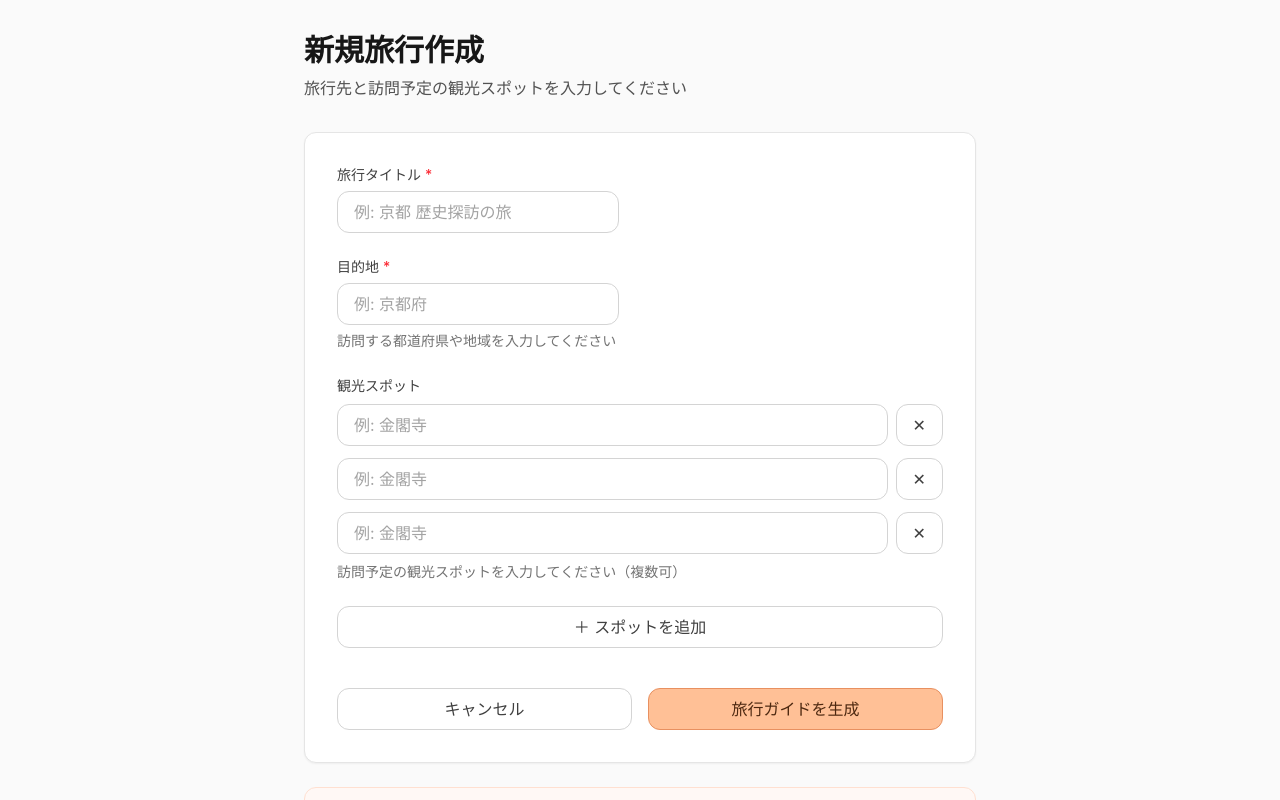
Test: TravelNewPage › エラーダイアログ操作 › エラーダイアログを閉じることができる
The width and height of the screenshot is (1280, 800).
Type "テスト旅行" into the field with placeholder "例: 京都 歴史探訪の旅" at (478, 212), box [337,191,619,233]
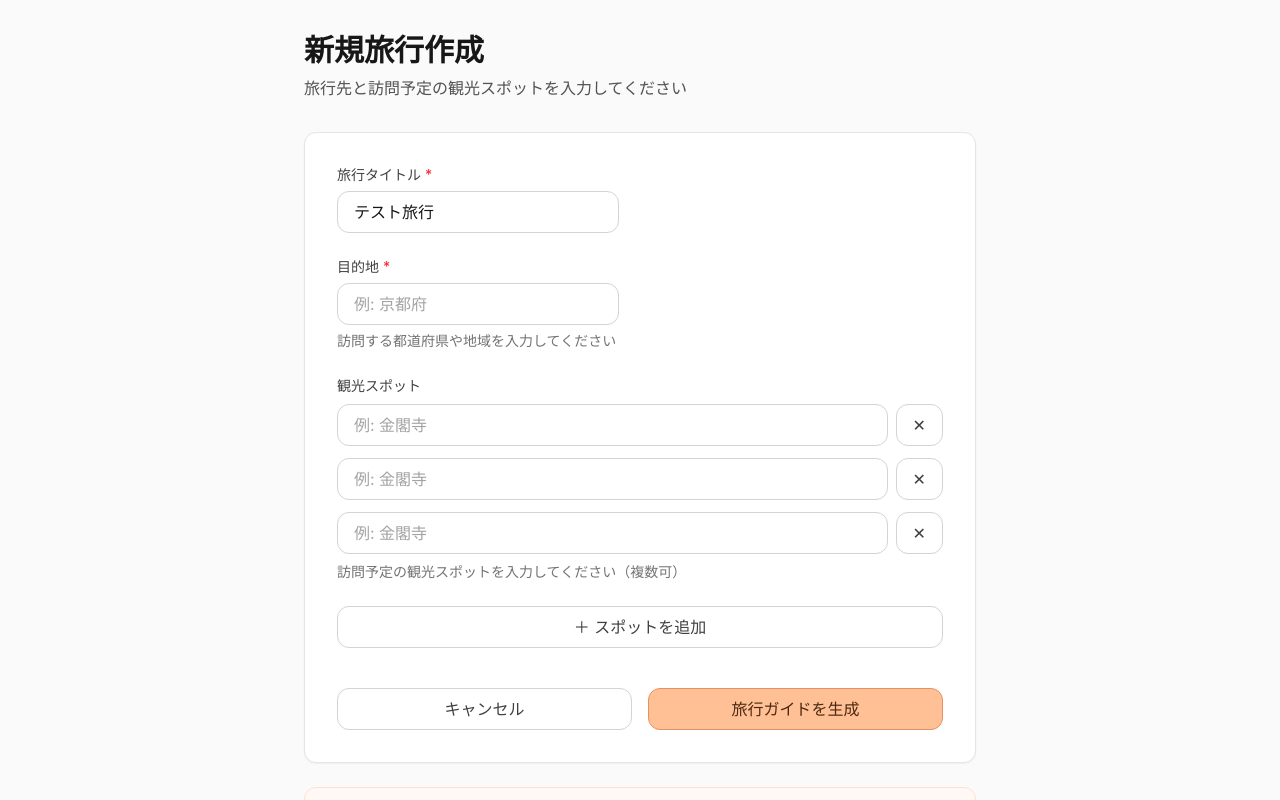
Type "テスト目的地" into the field with placeholder "例: 京都府" at (478, 304), box [337,283,619,325]
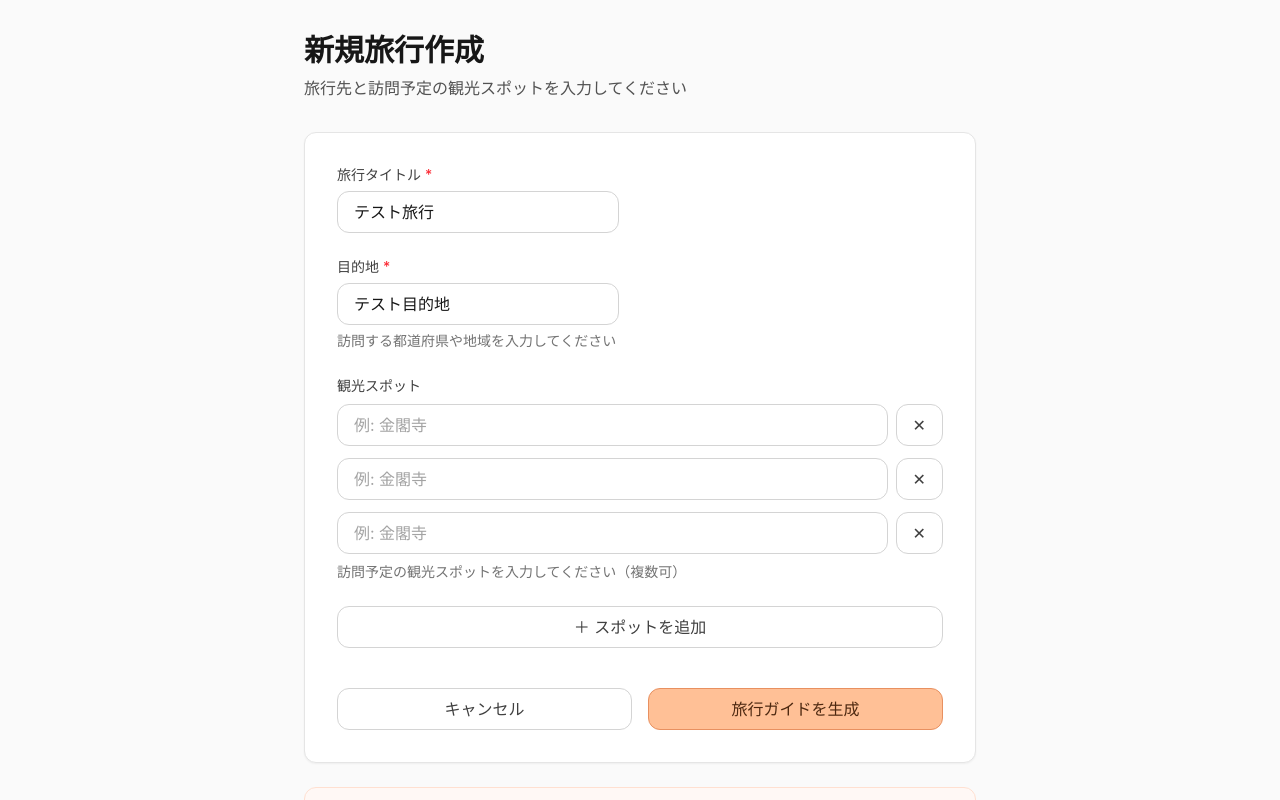
Click the button "旅行ガイドを生成" at (796, 709), box [648,688,943,730]
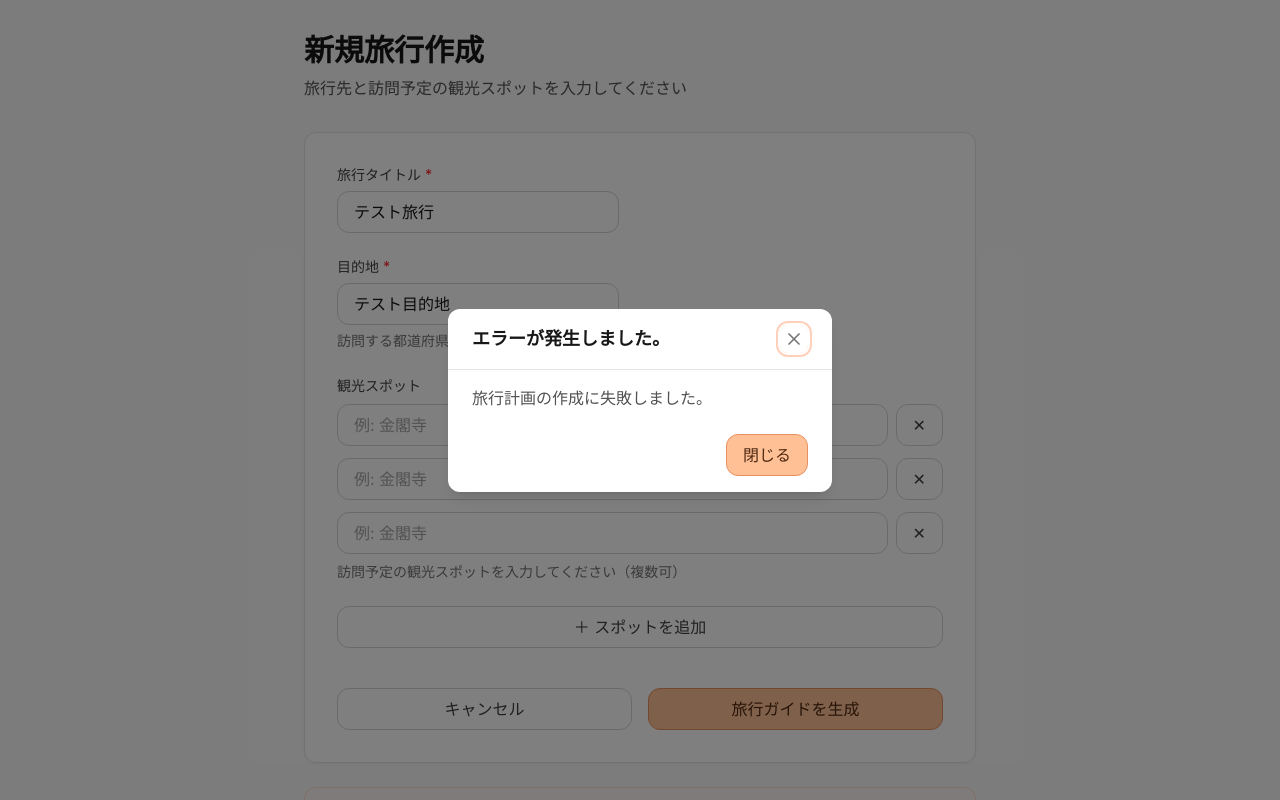
Now the text "旅行計画の作成に失敗しました。" is shown, box [472,388,712,408]
Click the button "閉じる" at (767, 454), box [726,434,808,476]
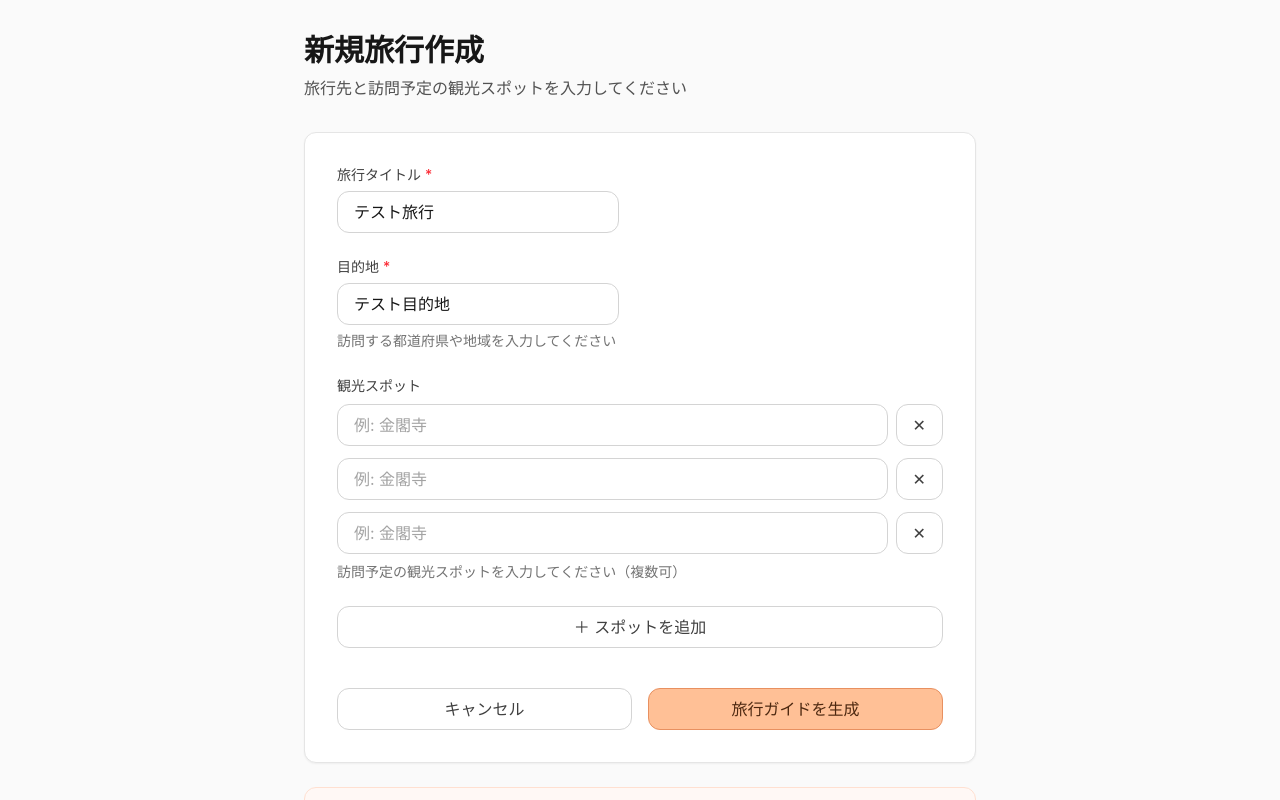
Now the heading "エラーが発生しました。" is gone
